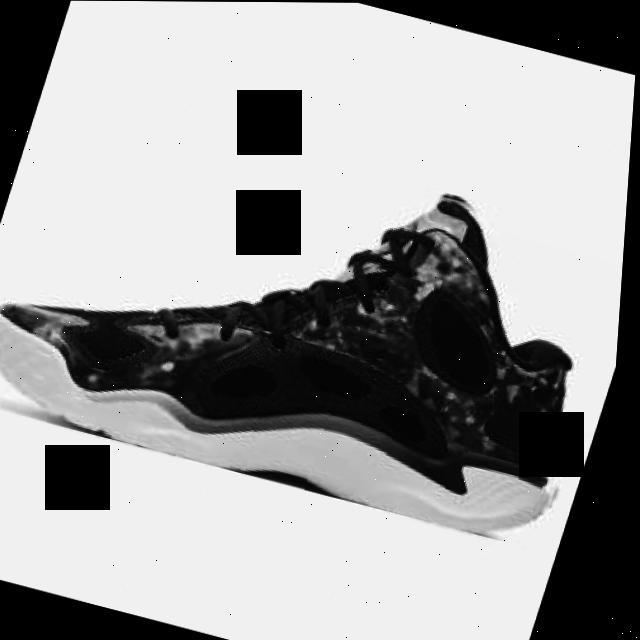shoe: (0, 88, 635, 551)
